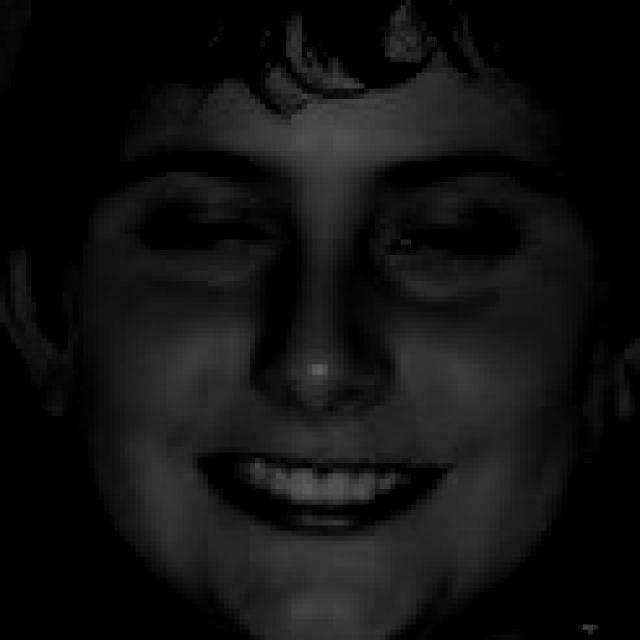real: (41, 68, 613, 614), (106, 155, 528, 309)
